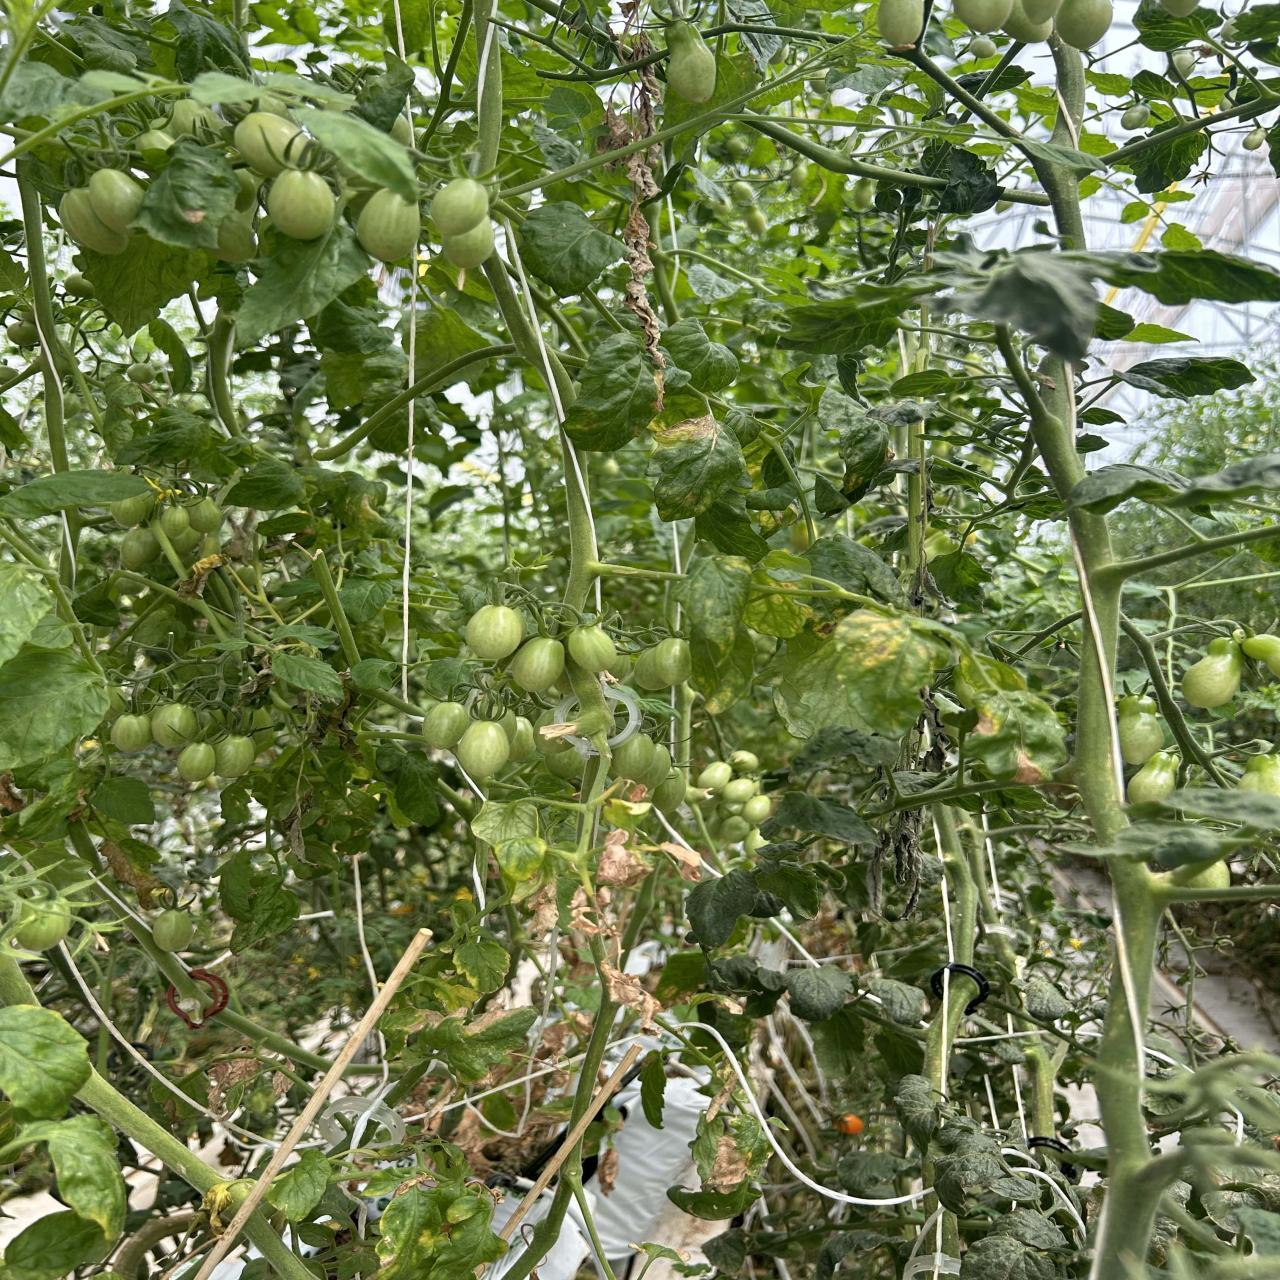Rugose leaf: (777, 610, 954, 738), (0, 1115, 128, 1280), (0, 1006, 91, 1119), (647, 415, 745, 520), (470, 802, 549, 890), (233, 113, 314, 178), (266, 170, 336, 240), (356, 189, 420, 263), (59, 189, 128, 253), (782, 966, 853, 1021), (88, 169, 144, 234), (452, 931, 509, 993), (430, 178, 488, 238), (869, 978, 928, 1028), (442, 215, 495, 268), (411, 976, 481, 1014), (1024, 978, 1073, 1021)
Rugose tomato: (1182, 636, 1244, 708), (666, 21, 716, 103), (1118, 695, 1166, 765), (1128, 751, 1180, 804), (1056, 0, 1112, 49), (877, 0, 924, 47), (1002, 0, 1053, 43), (953, 0, 1014, 33), (1239, 753, 1280, 796), (1240, 634, 1280, 678), (1021, 0, 1063, 25), (968, 36, 998, 59)
